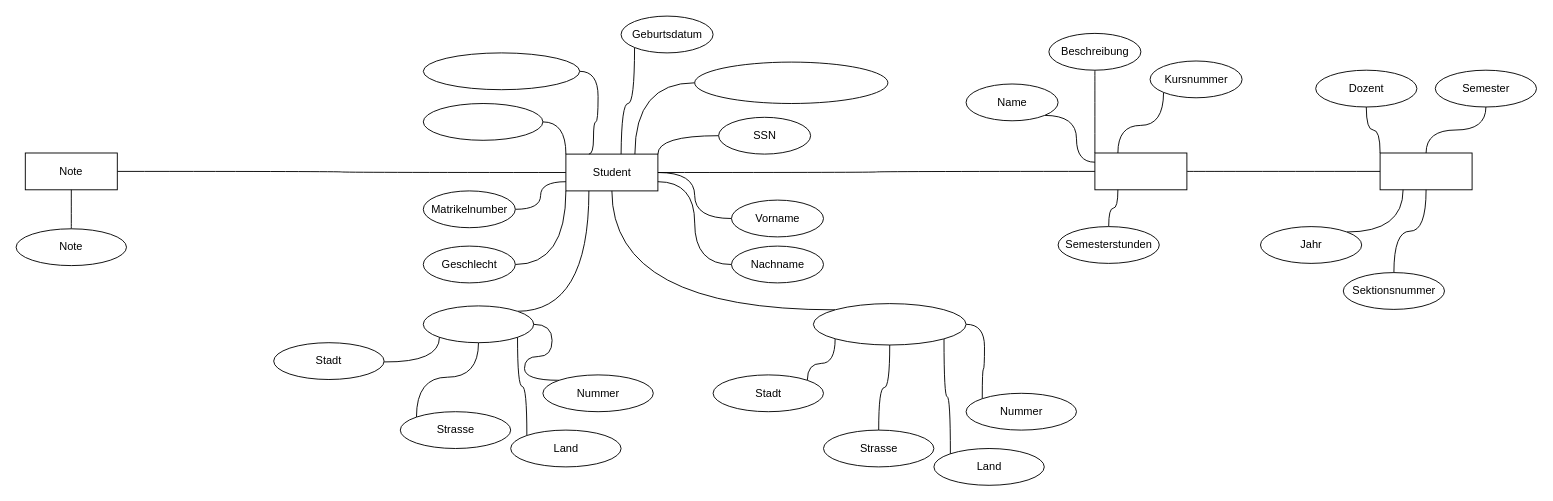
The diagram is 1553 pixels wide and 501 high, and some of its shapes have lost their labels. The box of each missing label's shape, as (x1, y1, x2, y2) in pixels:
Degree_Programm: (422, 103, 543, 140)
Kurs: (1094, 152, 1187, 190)
Sektion: (1379, 152, 1472, 190)
Ständige_Adresse: (422, 305, 534, 343)
Ständige_Telefonnummer: (422, 52, 580, 90)
Vorübergehende_ Telefonnummer: (694, 61, 888, 104)
Vorübergehende_Adresse: (812, 303, 966, 345)
